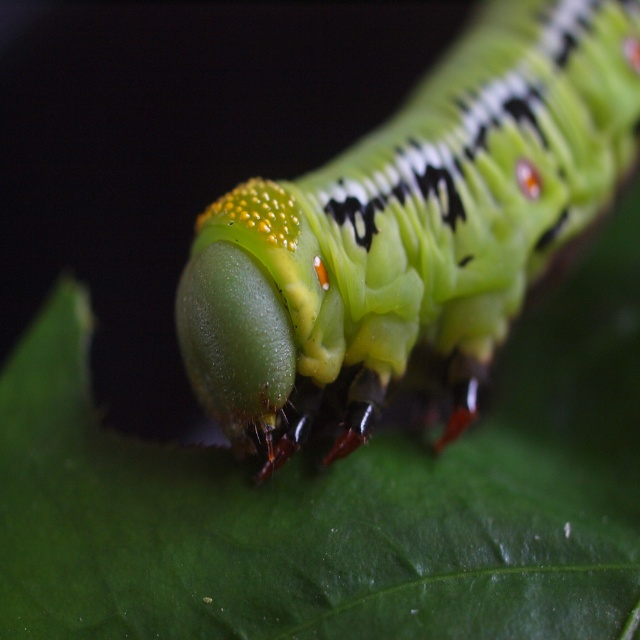Caterpillar: (172, 0, 640, 487)
